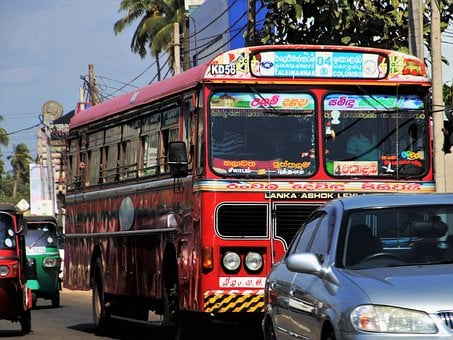bus: (66, 43, 436, 334)
car: (261, 192, 453, 340)
threewheel: (1, 203, 32, 333), (22, 214, 63, 309)
